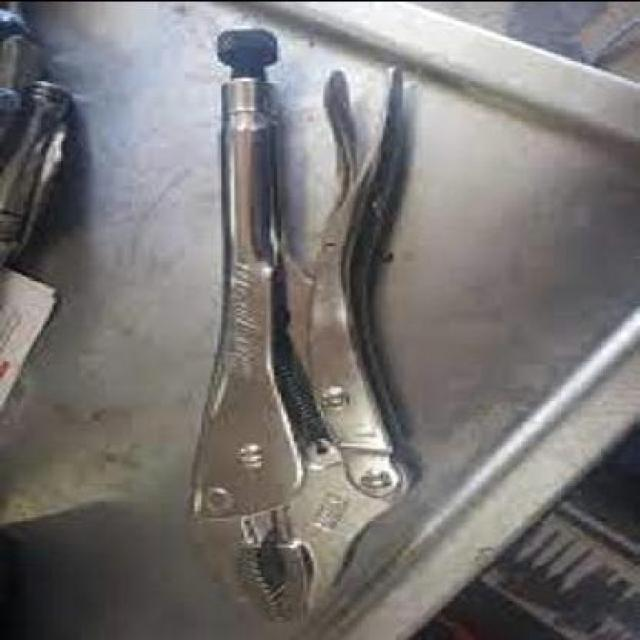pliers: (192, 31, 410, 620)
